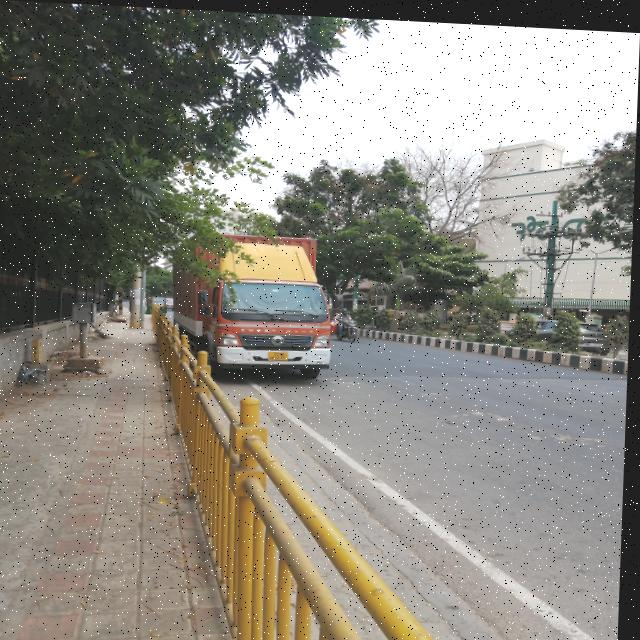plate: (270, 347, 291, 359), (591, 336, 605, 340), (350, 322, 359, 324)
